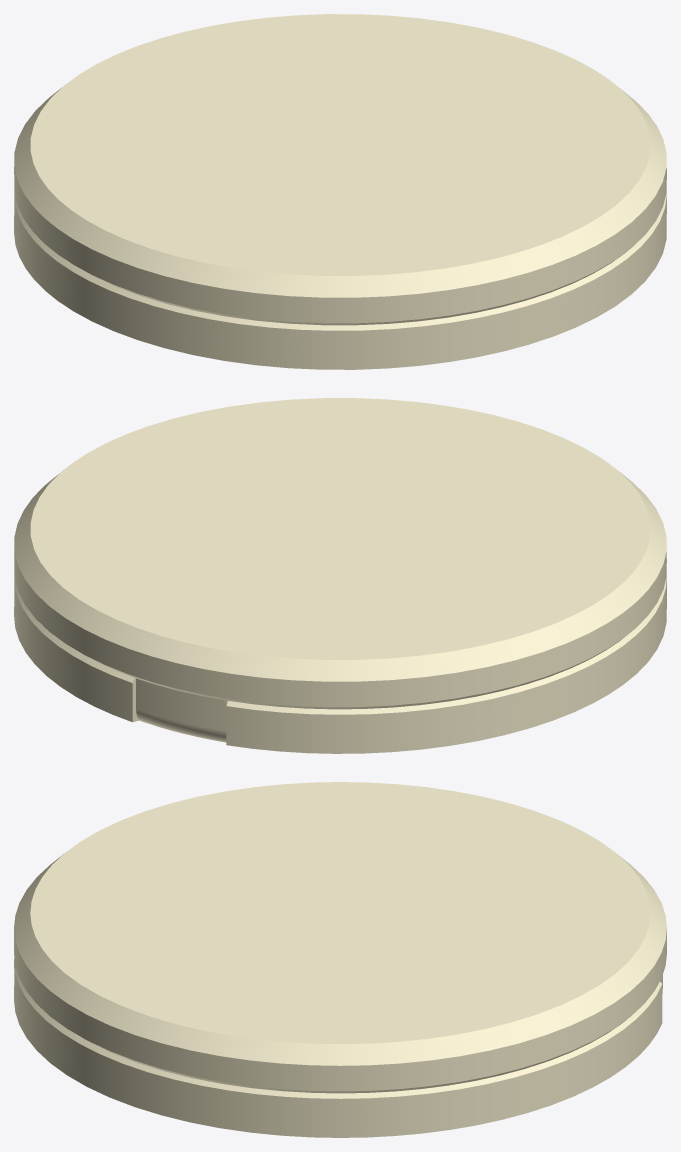
The model's file is 956_powder_compact_close.glb.
The picture shows the model from 3 angles, top to bottom: view 1: azimuth 30°, elevation 25°; view 2: azimuth 150°, elevation 25°; view 3: azimuth 270°, elevation 25°; orthographic projection.
Parts seen in each view (by area): view 1: huta, Body1; view 2: huta, Body1; view 3: huta, Body1.
Part boxes in pixels (x1,y1,x2,y2): huta: (14,14,666,325); Body1: (14,193,666,369); huta: (14,398,666,742); Body1: (14,574,666,753); huta: (14,782,666,1093); Body1: (14,958,662,1137).
Bounding box in the file's own units: 0.08 × 0.015 × 0.08.
